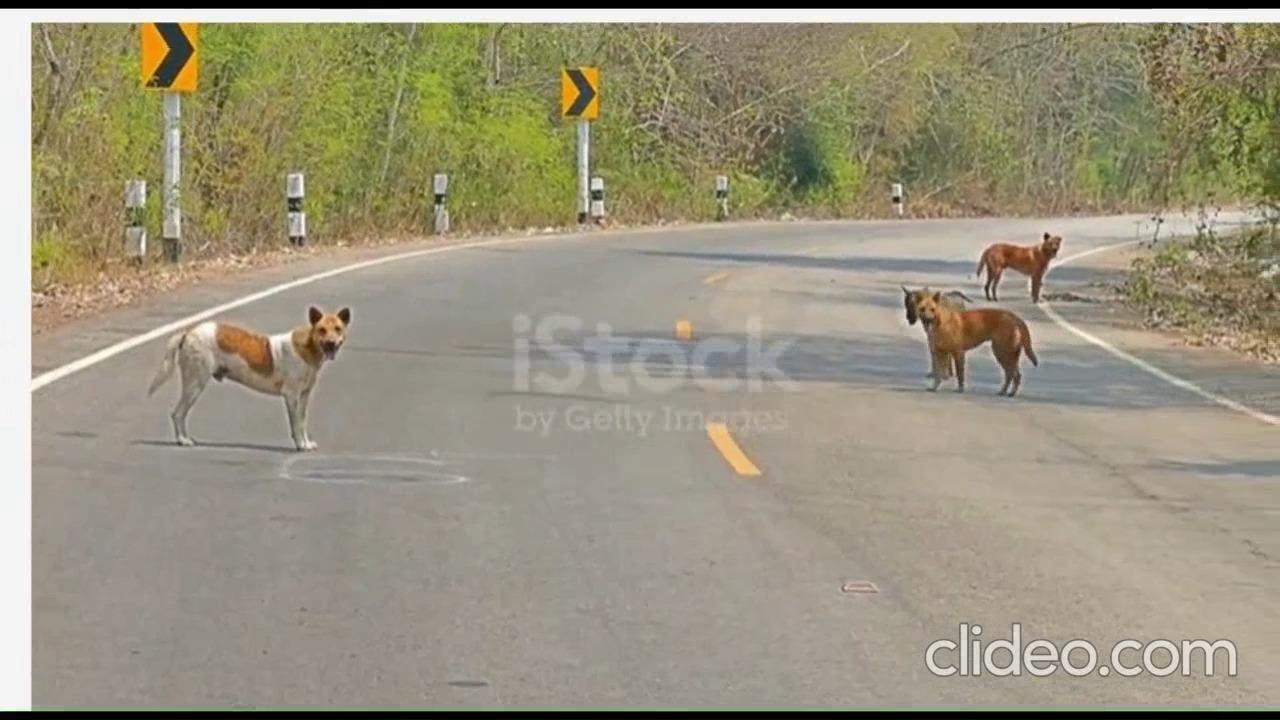dog: (147, 304, 357, 449), (901, 290, 1037, 402), (969, 228, 1067, 302)
